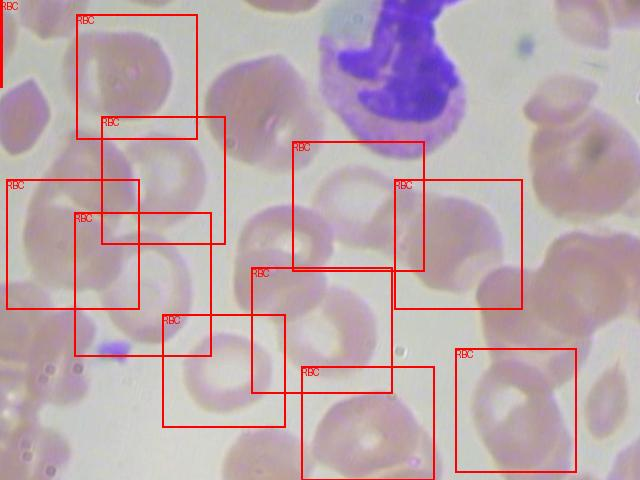RBC: (74, 212, 211, 356), (251, 267, 392, 393), (6, 179, 139, 309), (292, 141, 424, 271), (394, 179, 522, 309), (101, 116, 225, 244), (301, 366, 434, 480), (76, 14, 197, 139), (455, 348, 576, 472), (162, 314, 285, 427), (0, 0, 2, 87)
